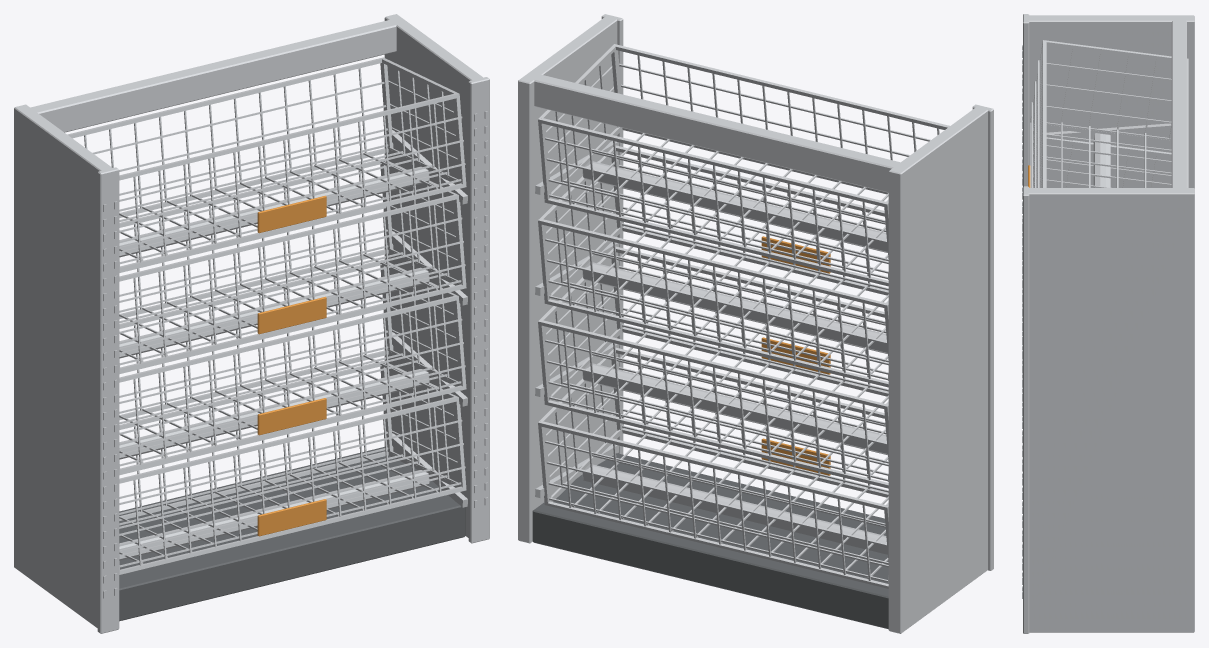
The model's file is mesh-basket-bay.glb.
The picture shows the model from 3 angles, left to right: view 1: azimuth 30°, elevation 25°; view 2: azimuth 150°, elevation 25°; view 3: azimuth 270°, elevation 25°; orthographic projection. The views are drawn at different scales.
Visible parts, largest first — view 1: mesh-basket-bay; view 2: mesh-basket-bay; view 3: mesh-basket-bay.
Part boxes in pixels (box(x1,y1,x2,y2)): mesh-basket-bay: box(14, 14, 489, 633); mesh-basket-bay: box(518, 14, 993, 633); mesh-basket-bay: box(1022, 14, 1194, 633).
Size of the model in its own units: 1.37 by 1.55 by 0.5529.
